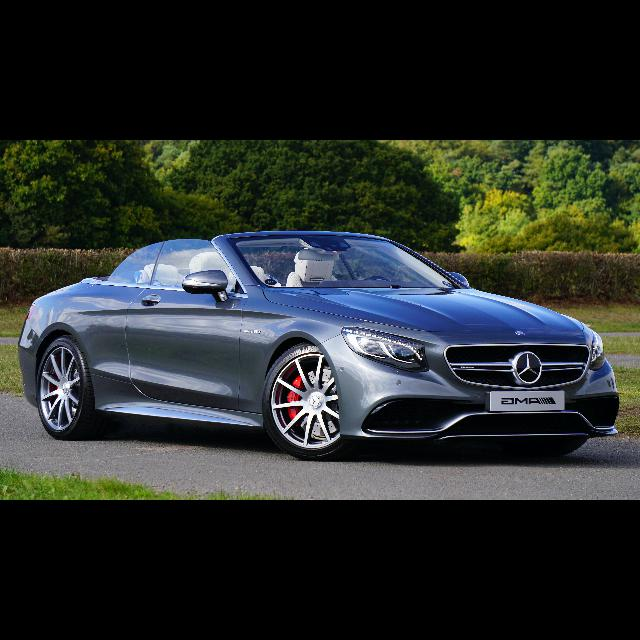cars: (12, 216, 626, 462)
